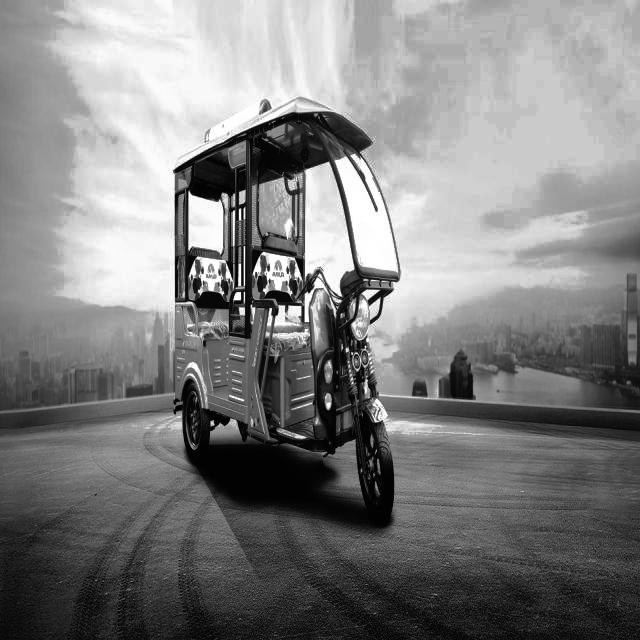Toto: (171, 87, 402, 524)
